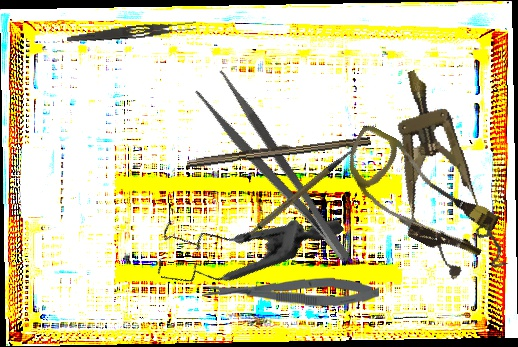Cannula: (327, 122, 510, 270)
Dressing Forceps: (191, 66, 357, 279), (66, 18, 198, 48)
Micro Scissor: (201, 272, 380, 310)
Scalpel Handle: (232, 149, 365, 244), (185, 131, 372, 171)
Speculum: (137, 138, 345, 341), (371, 59, 510, 287)
